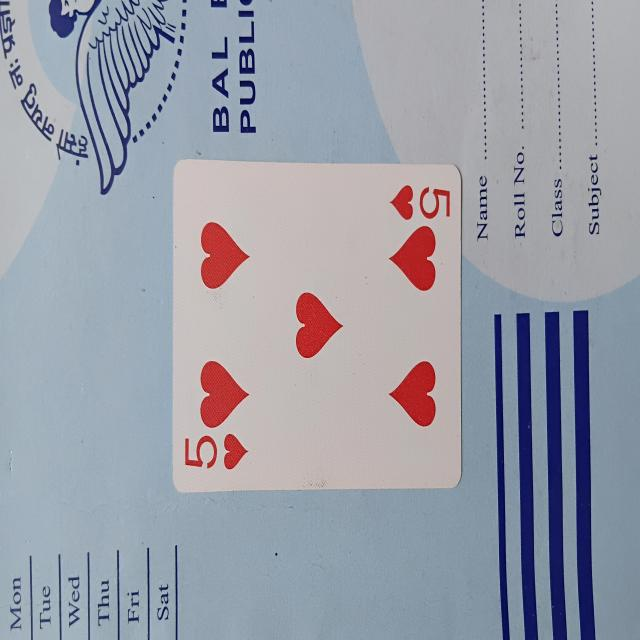5H: (173, 158, 462, 489)
